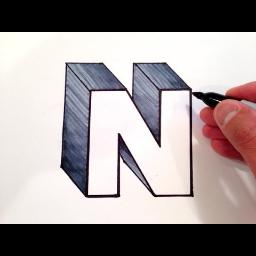n: (84, 86, 198, 200)
